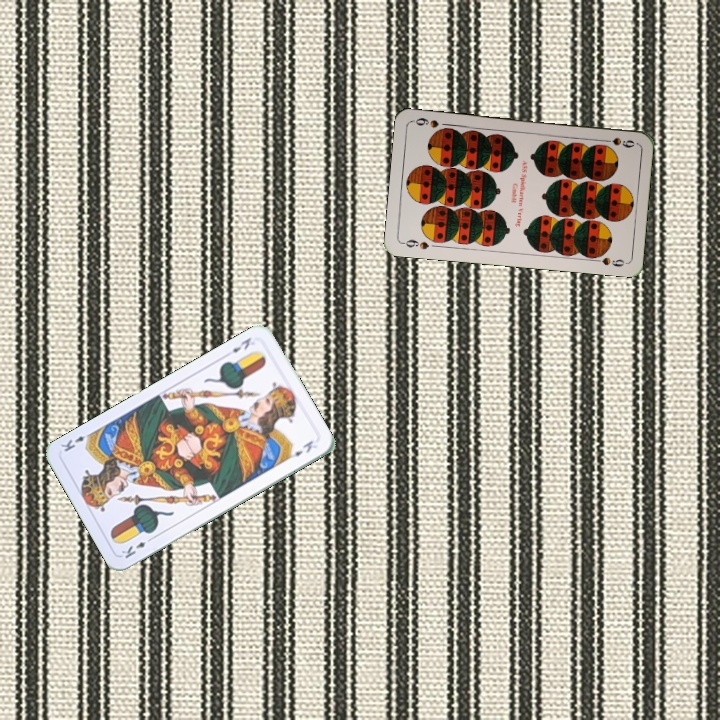EK: (117, 533, 156, 561), (228, 333, 254, 355)
S9: (597, 133, 637, 150), (398, 235, 431, 252)
